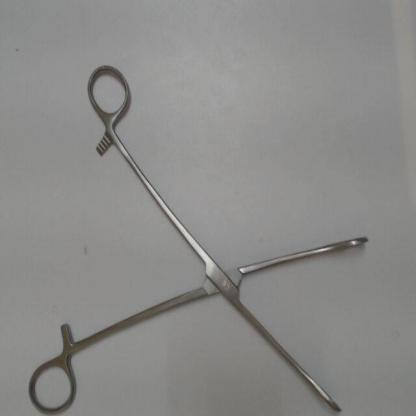Sponge Forceps: (28, 60, 376, 415)
